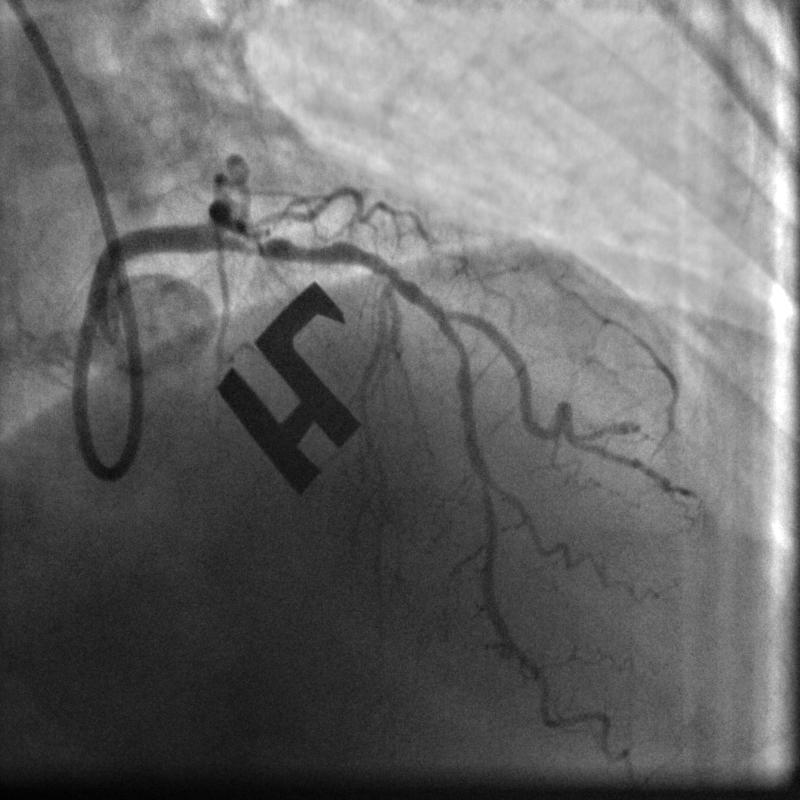Stenosis: (234, 229, 351, 261)
